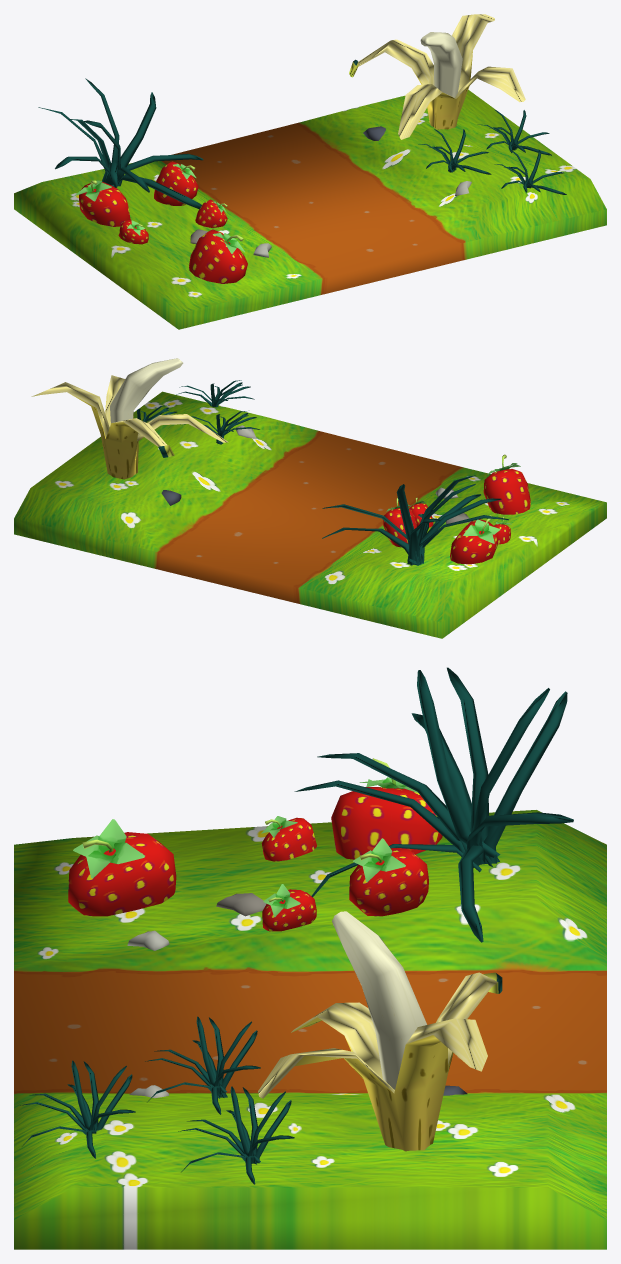
File: D_block_Vide_03.FBX
3 renders of one model, top to bottom at view 1: azimuth 30°, elevation 25°; view 2: azimuth 150°, elevation 25°; view 3: azimuth 270°, elevation 25°, orthographic. The views are drawn at different scales.
Parts seen in each view (by area): view 1: Biome_Vide_031; view 2: Biome_Vide_031; view 3: Biome_Vide_031.
Boxes of the visible parts, box(x1,y1,x2,y2) form: Biome_Vide_031: box(14, 14, 606, 329); Biome_Vide_031: box(14, 358, 606, 638); Biome_Vide_031: box(14, 667, 606, 1249).
Size of the model in its own units: 9.65 by 2.94 by 6.
2 materials, 2 textured.
